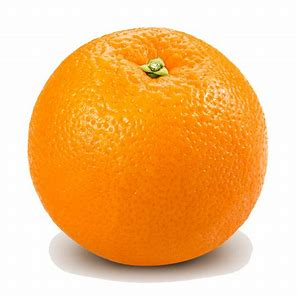orange: (25, 23, 268, 267)
